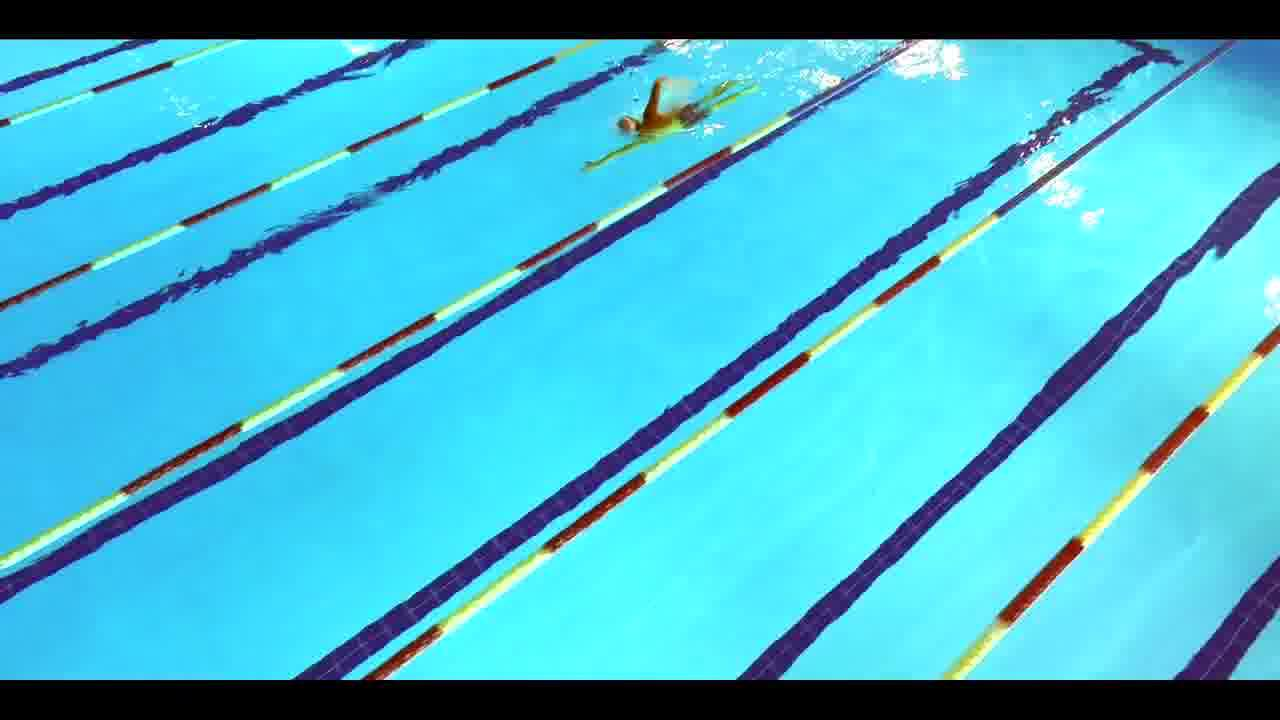human: (570, 72, 758, 176)
